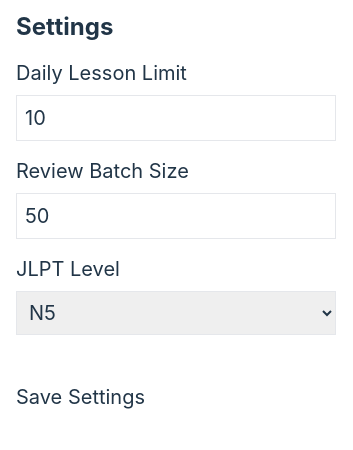
Test case: SettingsPage › shows error message when save fails
Expected: the number field labelled "Daily Lesson Limit" is shown, [16,95,336,141]
Click the button "Save Settings" at {"x": 80, "y": 397}, box [16,383,145,411]
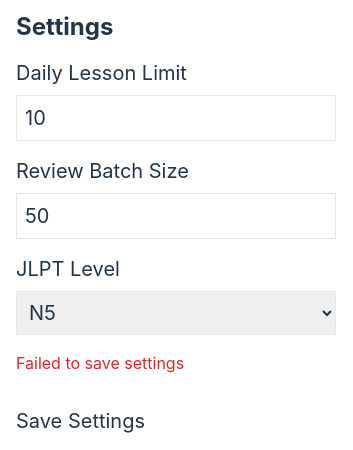
Now the message reads "Failed to save settings", box [16,353,184,373]
